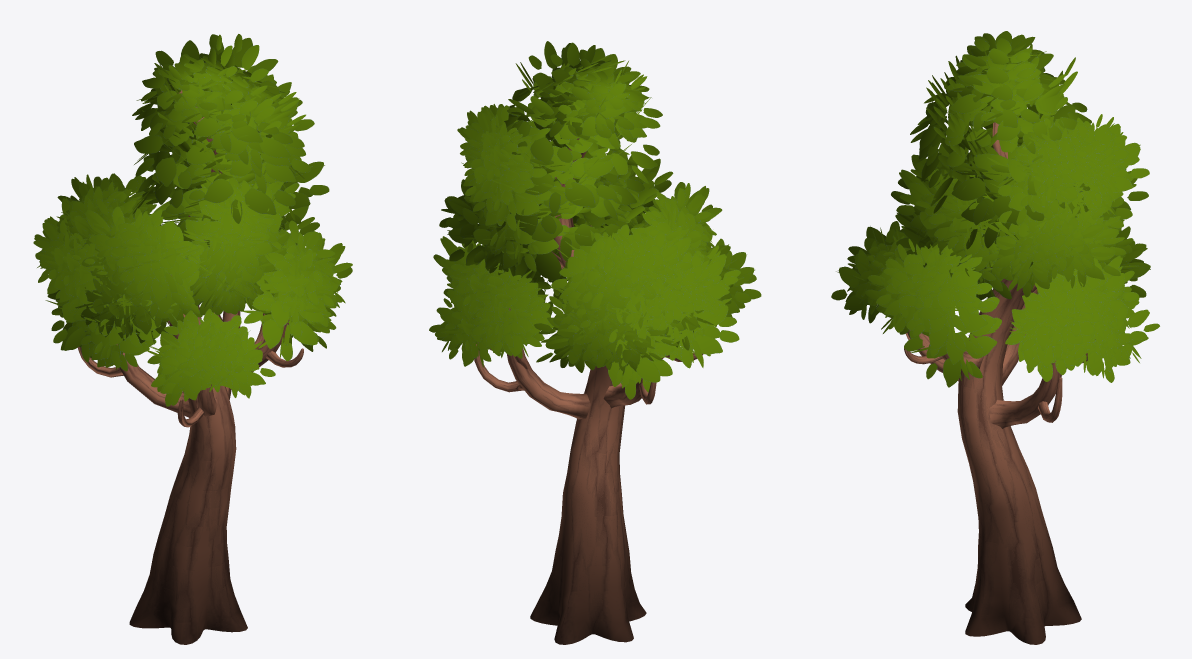
The model's file is CommonTree_2.glb.
3 renders of one model, left to right at view 1: azimuth 30°, elevation 25°; view 2: azimuth 150°, elevation 25°; view 3: azimuth 270°, elevation 25°, orthographic. The views are drawn at different scales.
Parts seen in each view (by area): view 1: CommonTree_2; view 2: CommonTree_2; view 3: CommonTree_2.
Part boxes in pixels (x1,y1,x2,y2): CommonTree_2: (33,34,352,644); CommonTree_2: (429,41,761,644); CommonTree_2: (831,31,1159,644).
Bounding box in the file's own units: 4.46 × 7.64 × 4.28.
2 materials, 2 textured.
